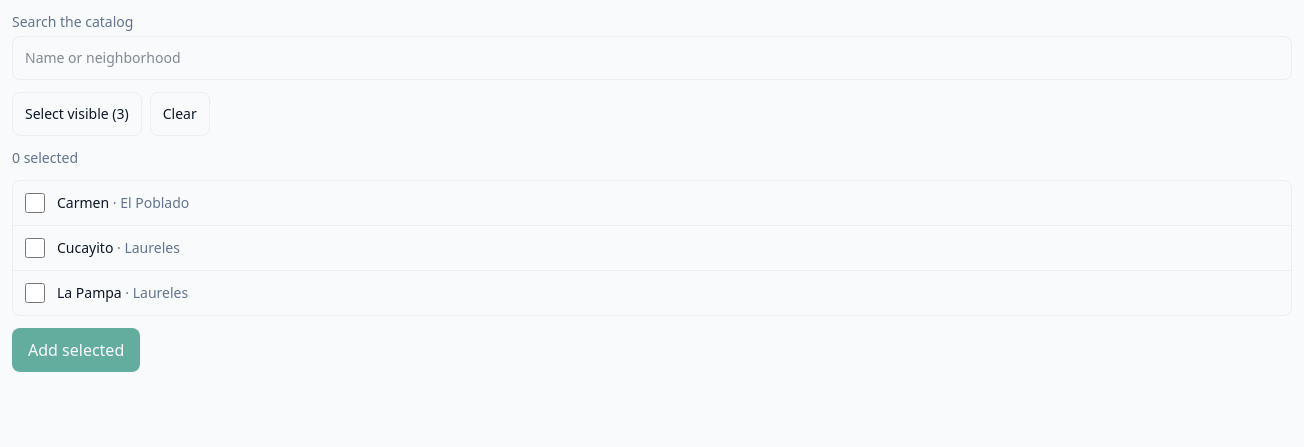
Test case: RestaurantPicker › says already linked after an idempotent retry
What coordinates should you click on to do the following:
click the checkbox with test id "contest-picker-option" showing "Carmen · El Poblado"
I would click on:
 (35, 203)
Its box is [25,193,45,213].
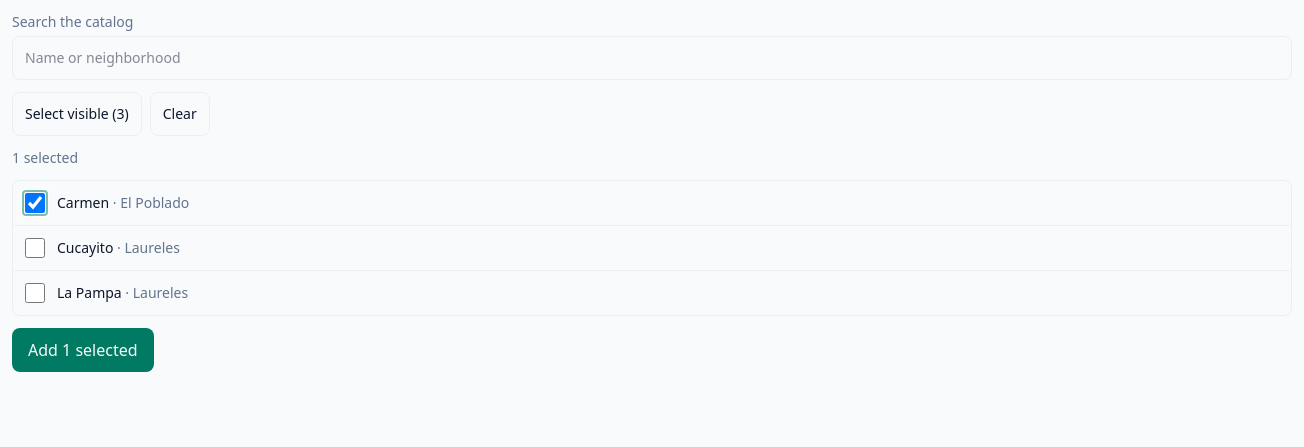
What coordinates should you click on to do the following:
click the button with test id "contest-link-submit"
I would click on:
 (83, 350)
Its box is [12,328,154,372].
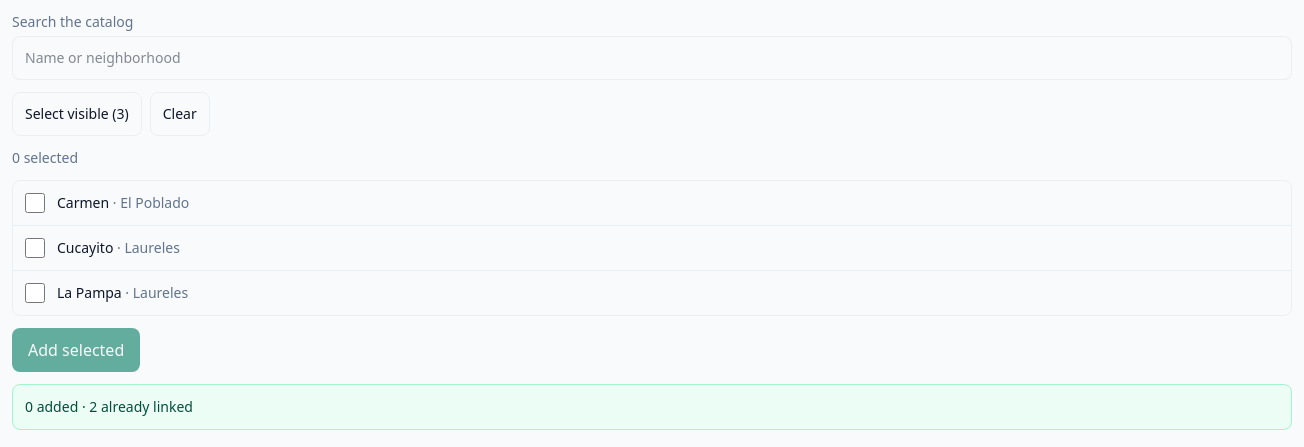
Expected: the text with test id "contest-link-result-summary" shows "0 added", [25,397,193,416]
Expected: the text with test id "contest-link-result-summary" shows "2 already linked", [25,397,193,416]
